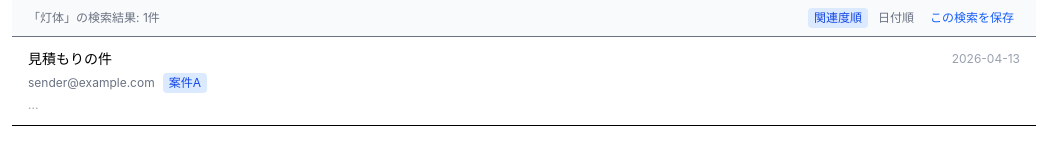
Scenario: SearchResults › Escape で保存入力を取り消す
Step 1. Click the button "この検索を保存" → [972, 18], box [924,8,1020,28]
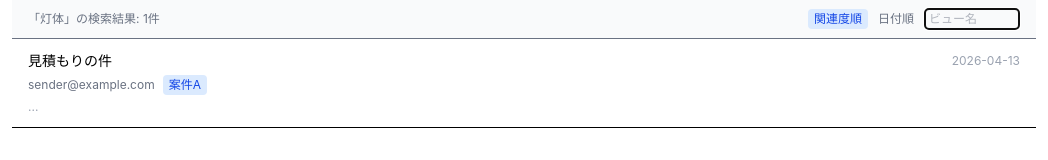
Step 2. Press Escape in the field with placeholder "ビュー名", box [924,8,1020,30]
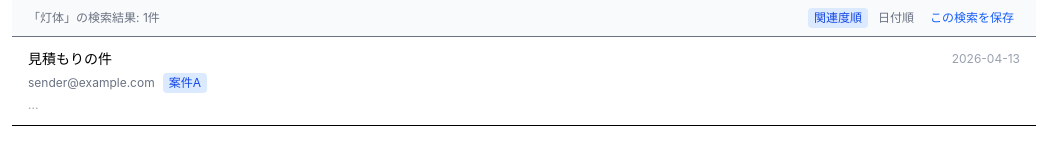
expect the field with placeholder "ビュー名" is gone: met
